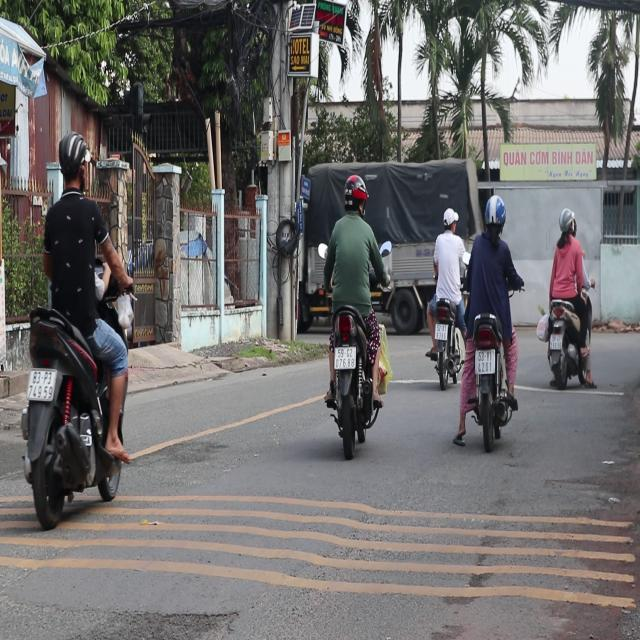helmet: (56, 130, 91, 192), (342, 173, 367, 216), (482, 192, 505, 236), (557, 205, 576, 239)
licenseplate: (22, 124, 134, 524), (320, 172, 392, 454), (457, 193, 522, 449), (540, 206, 593, 390), (424, 205, 466, 386)
motorcyclist: (441, 207, 456, 232)
nohelmet: (26, 368, 55, 400), (475, 349, 495, 374), (334, 346, 356, 368), (434, 323, 448, 340), (550, 334, 562, 349)
